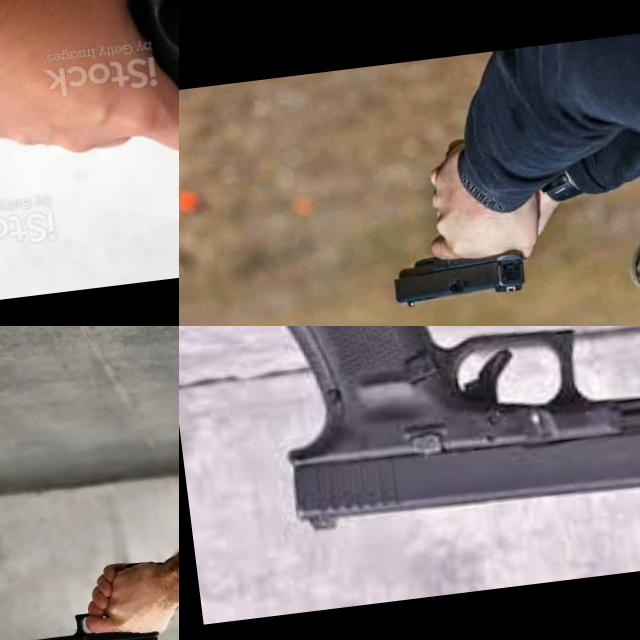handgun: (224, 326, 640, 551), (110, 0, 179, 212), (384, 240, 530, 314), (20, 602, 163, 640)
